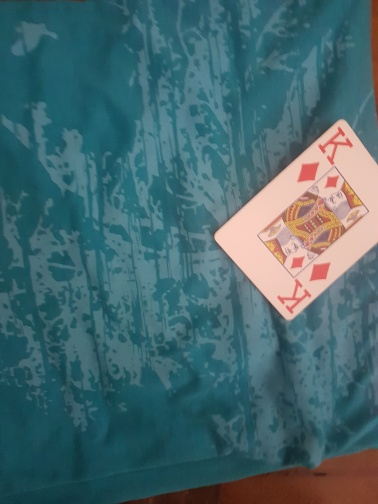king: (213, 120, 378, 322)
